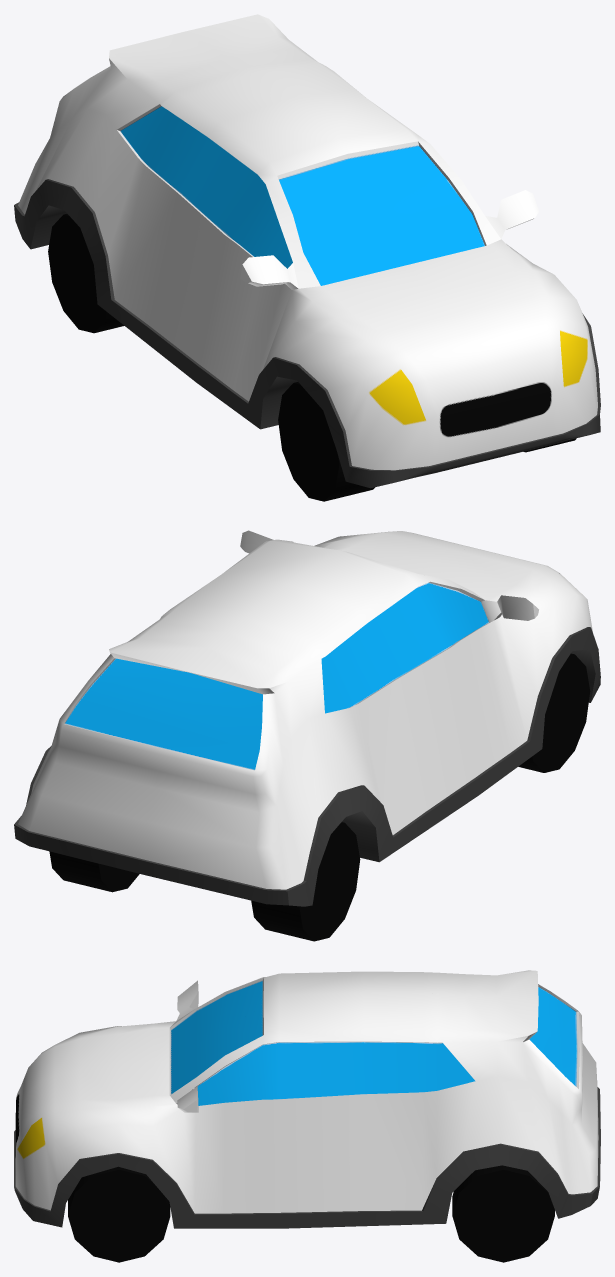
Rendered from Car1.fbx.
3 renders of one model, top to bottom at view 1: azimuth 30°, elevation 25°; view 2: azimuth 150°, elevation 25°; view 3: azimuth 270°, elevation 25°, orthographic. The views are drawn at different scales.
Visible parts, largest first — view 1: Car1; view 2: Car1; view 3: Car1.
Boxes of the visible parts, left/top/right/bottom form: Car1: left=14, top=14, right=600, bottom=501; Car1: left=14, top=530, right=600, bottom=941; Car1: left=14, top=970, right=600, bottom=1262.
Bounding box in the file's own units: 383 × 325 × 790.
2 materials, 2 textured.
